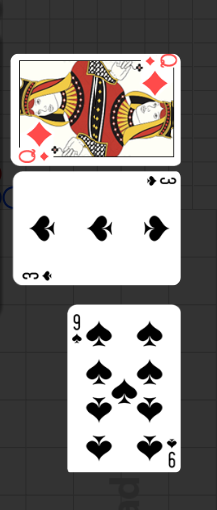9S: (69, 313, 83, 347), (165, 437, 177, 470)
QD: (134, 66, 181, 110), (14, 133, 60, 177)
